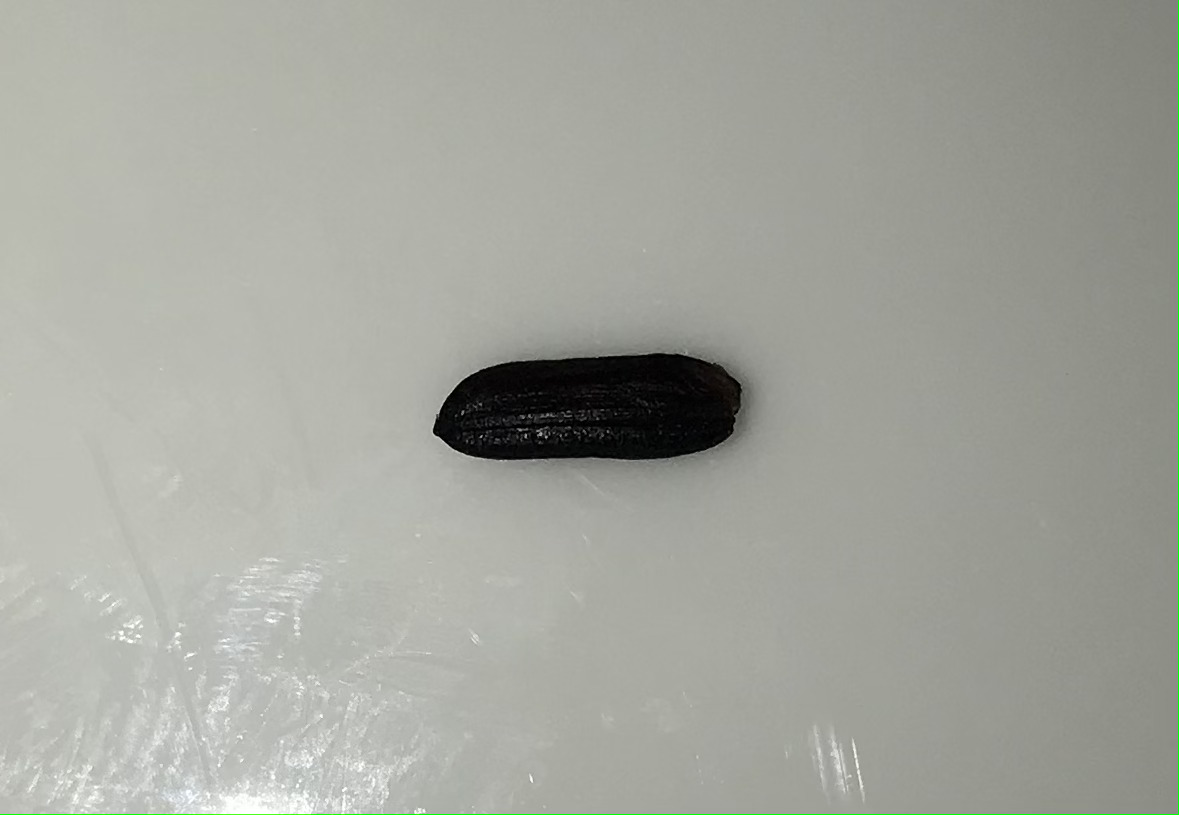Gao lut: (431, 349, 747, 463)
